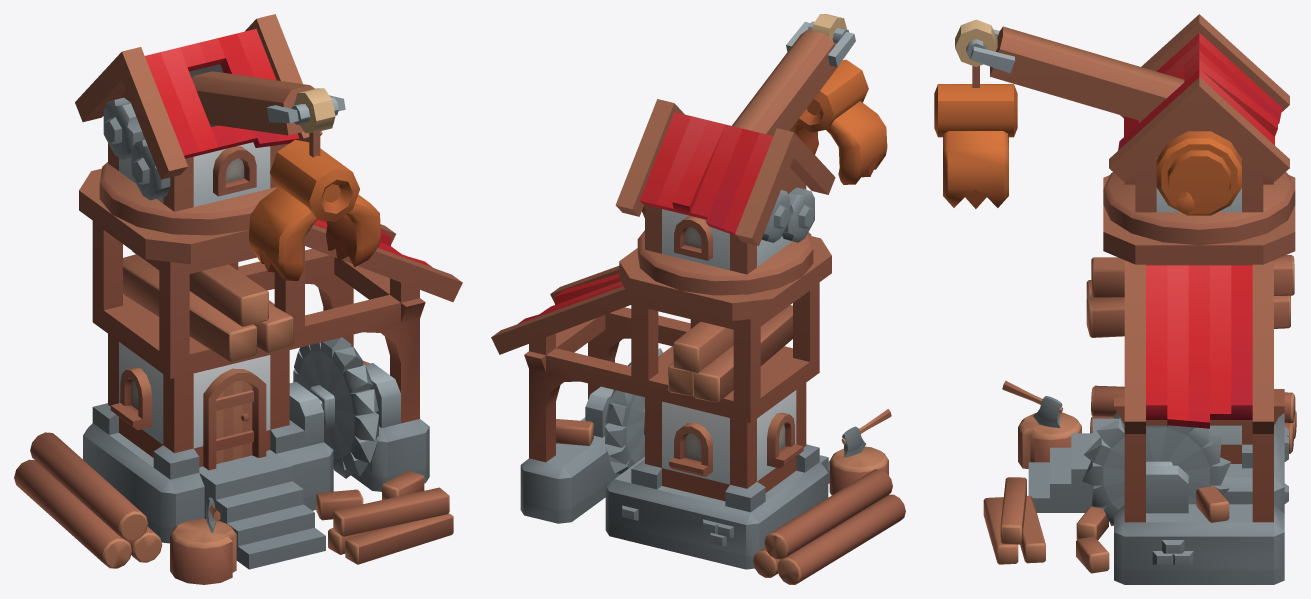
File: lumbermill_red.glb
3 views of the same model, side by side, from view 1: azimuth 30°, elevation 25°; view 2: azimuth 150°, elevation 25°; view 3: azimuth 270°, elevation 25° (orthographic). The views are drawn at different scales.
Visible parts, largest first — view 1: lumbermill_red; view 2: lumbermill_red; view 3: lumbermill_red.
Part boxes in pixels (bbox=[...]): lumbermill_red: bbox=[14, 14, 462, 584]; lumbermill_red: bbox=[491, 14, 905, 584]; lumbermill_red: bbox=[934, 14, 1296, 584].
Bounding box in the file's own units: 0.6835 × 0.8539 × 0.5946.
1 material, 1 textured.
